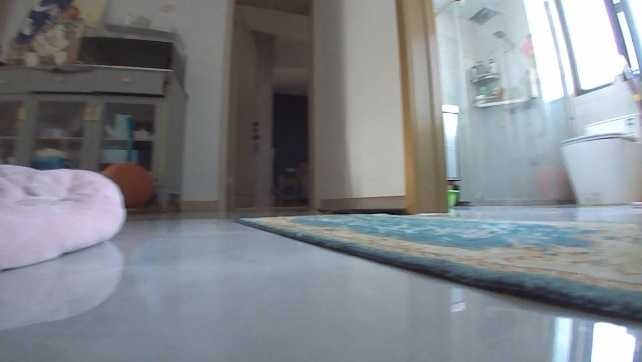blanket: (234, 210, 640, 321)
toilet: (560, 113, 641, 205)
